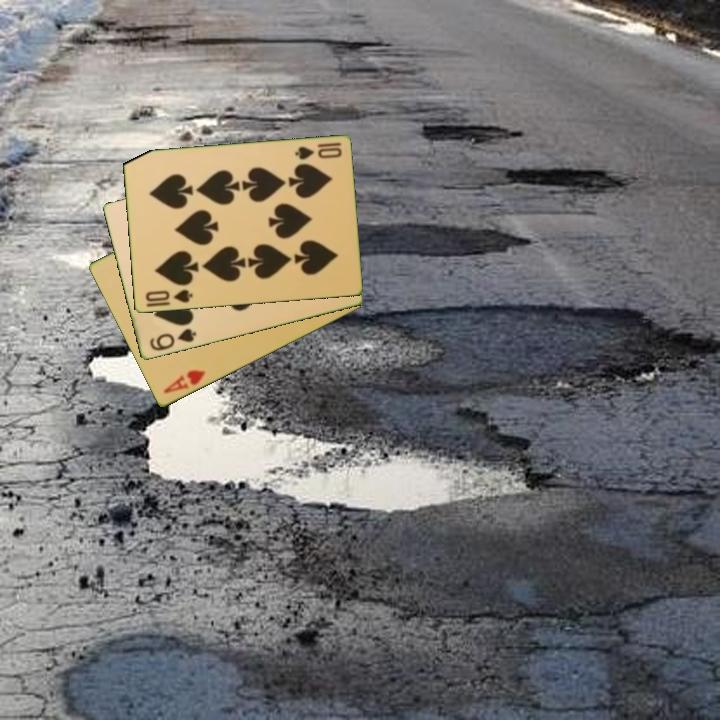10s: (291, 139, 344, 163), (142, 286, 195, 306)
6s: (146, 325, 199, 354)
Ah: (160, 366, 208, 397)
